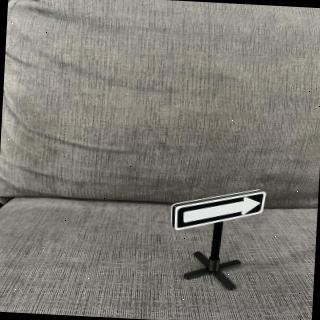sign_oneway_right: (174, 187, 268, 238)
